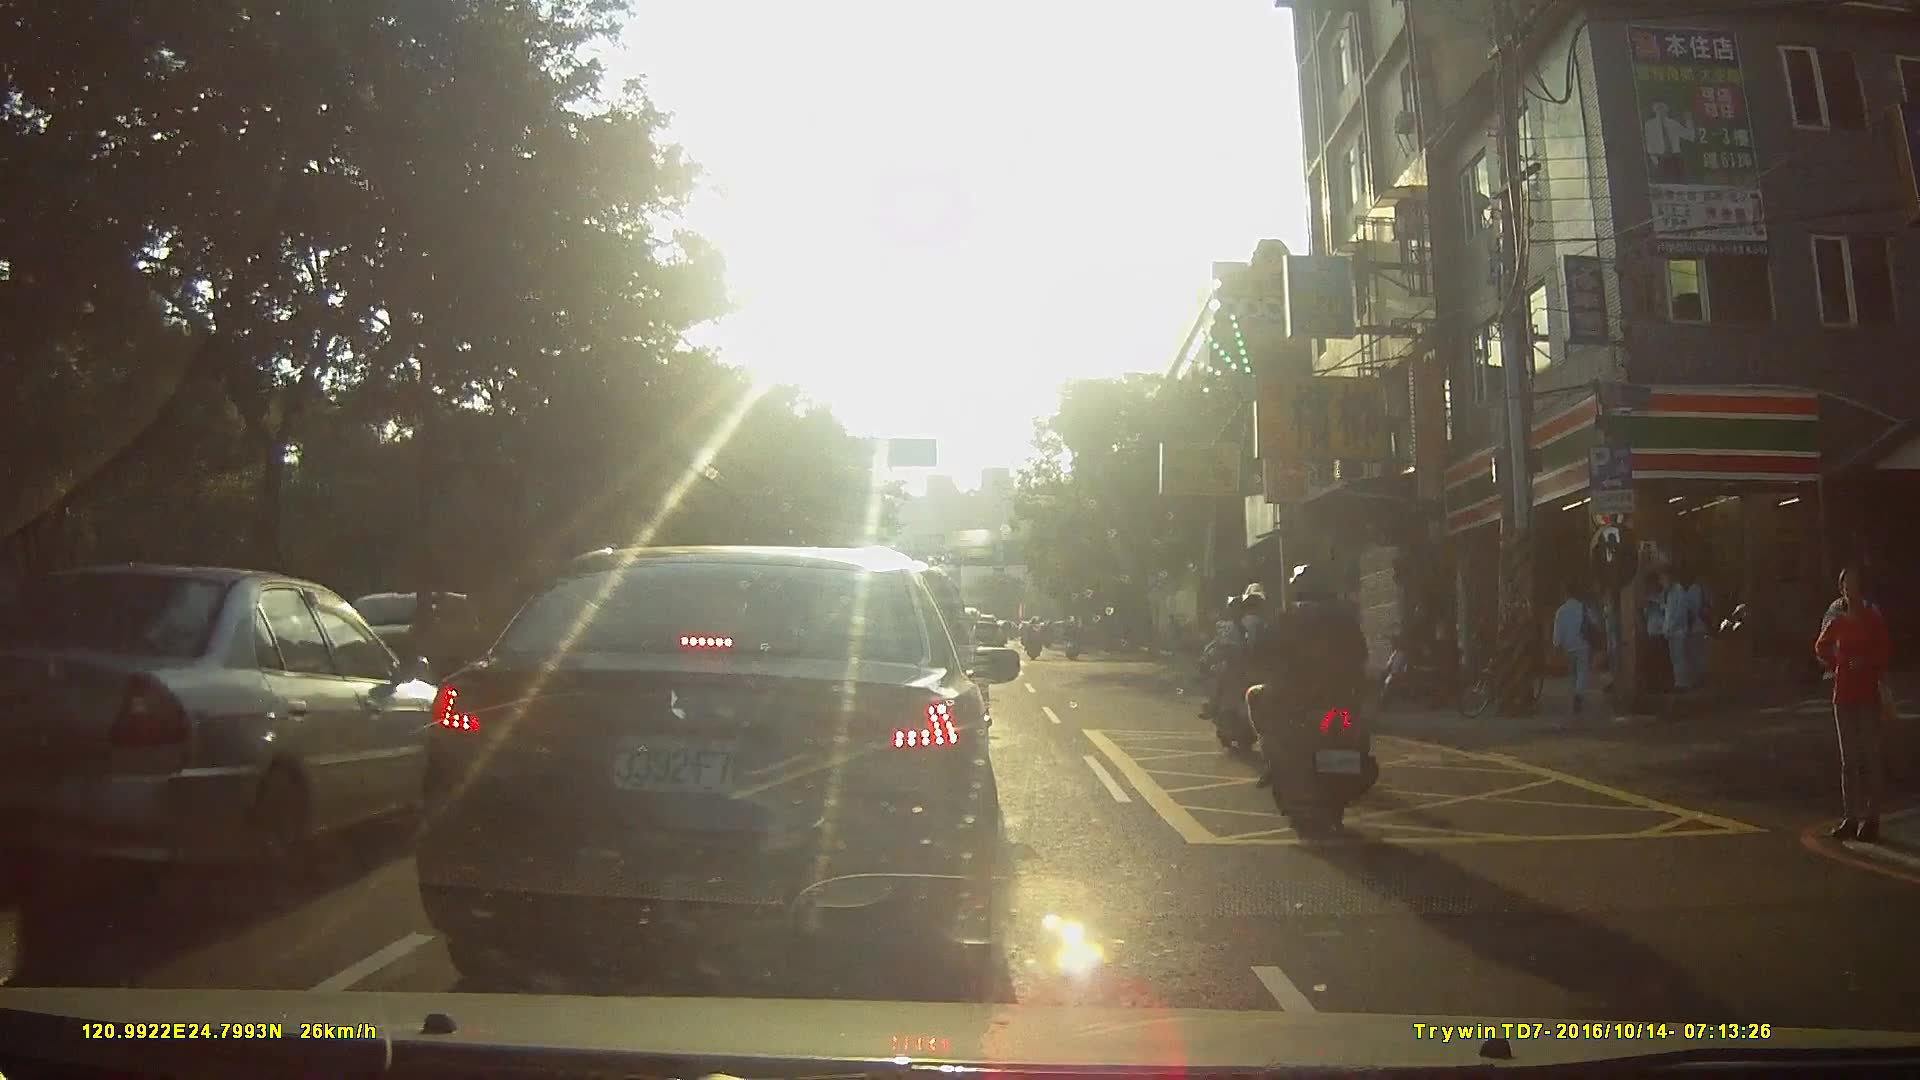pedestrian: (1814, 567, 1903, 849), (1816, 579, 1875, 775), (1550, 579, 1604, 715), (1637, 569, 1676, 703), (1651, 568, 1692, 697), (1677, 563, 1714, 693), (1604, 577, 1633, 709)
rider: (1248, 565, 1386, 833), (1196, 585, 1290, 755), (1063, 617, 1085, 664), (1024, 614, 1046, 664)
vehicle: (427, 538, 1039, 982), (27, 552, 464, 903)
